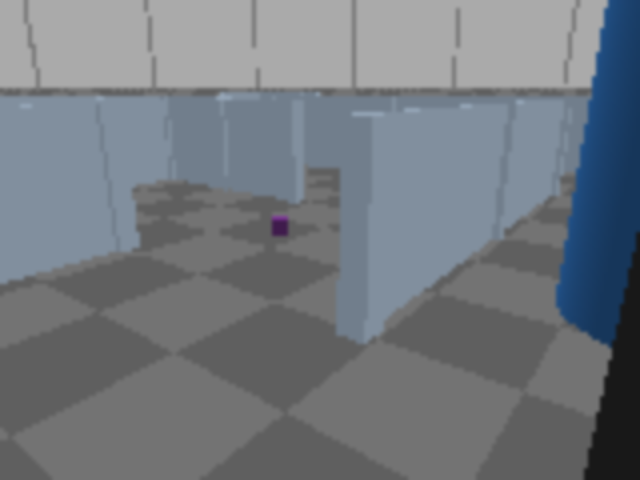person: (558, 0, 638, 366)
puck: (271, 217, 288, 235)
traffic_light: (503, 0, 638, 478)
